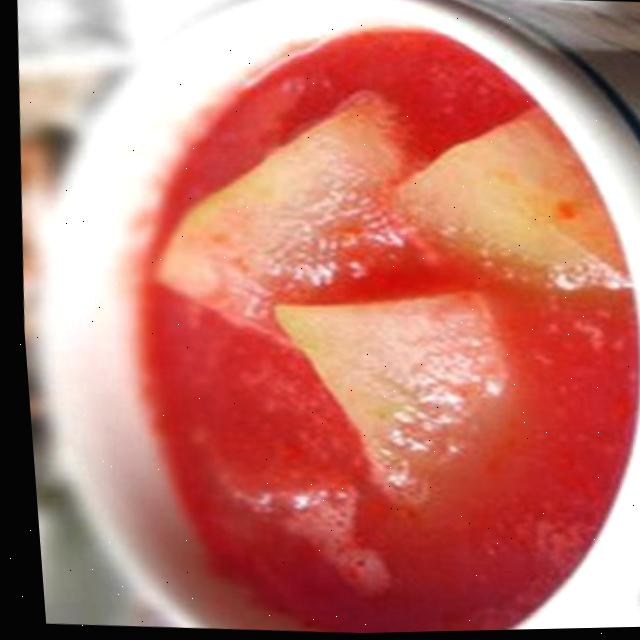汤锅炖物: (39, 0, 640, 639)
